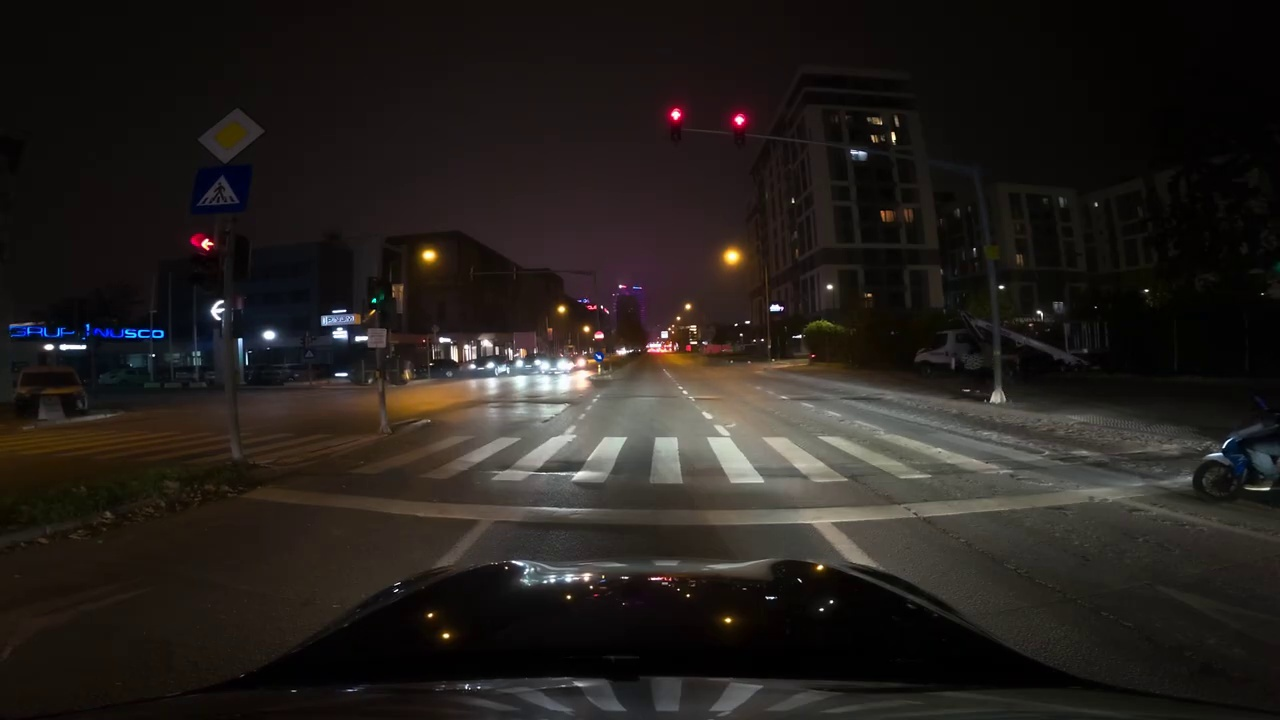acesa: (720, 244, 745, 269), (416, 244, 441, 269)
